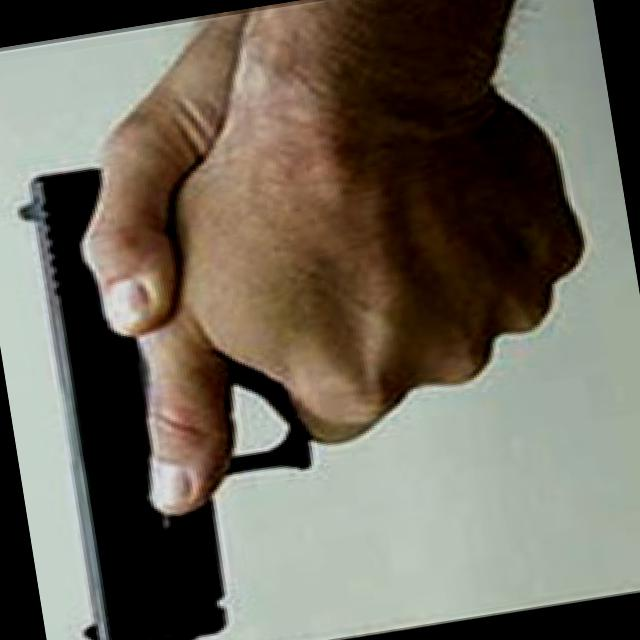handgun: (0, 140, 352, 639)
